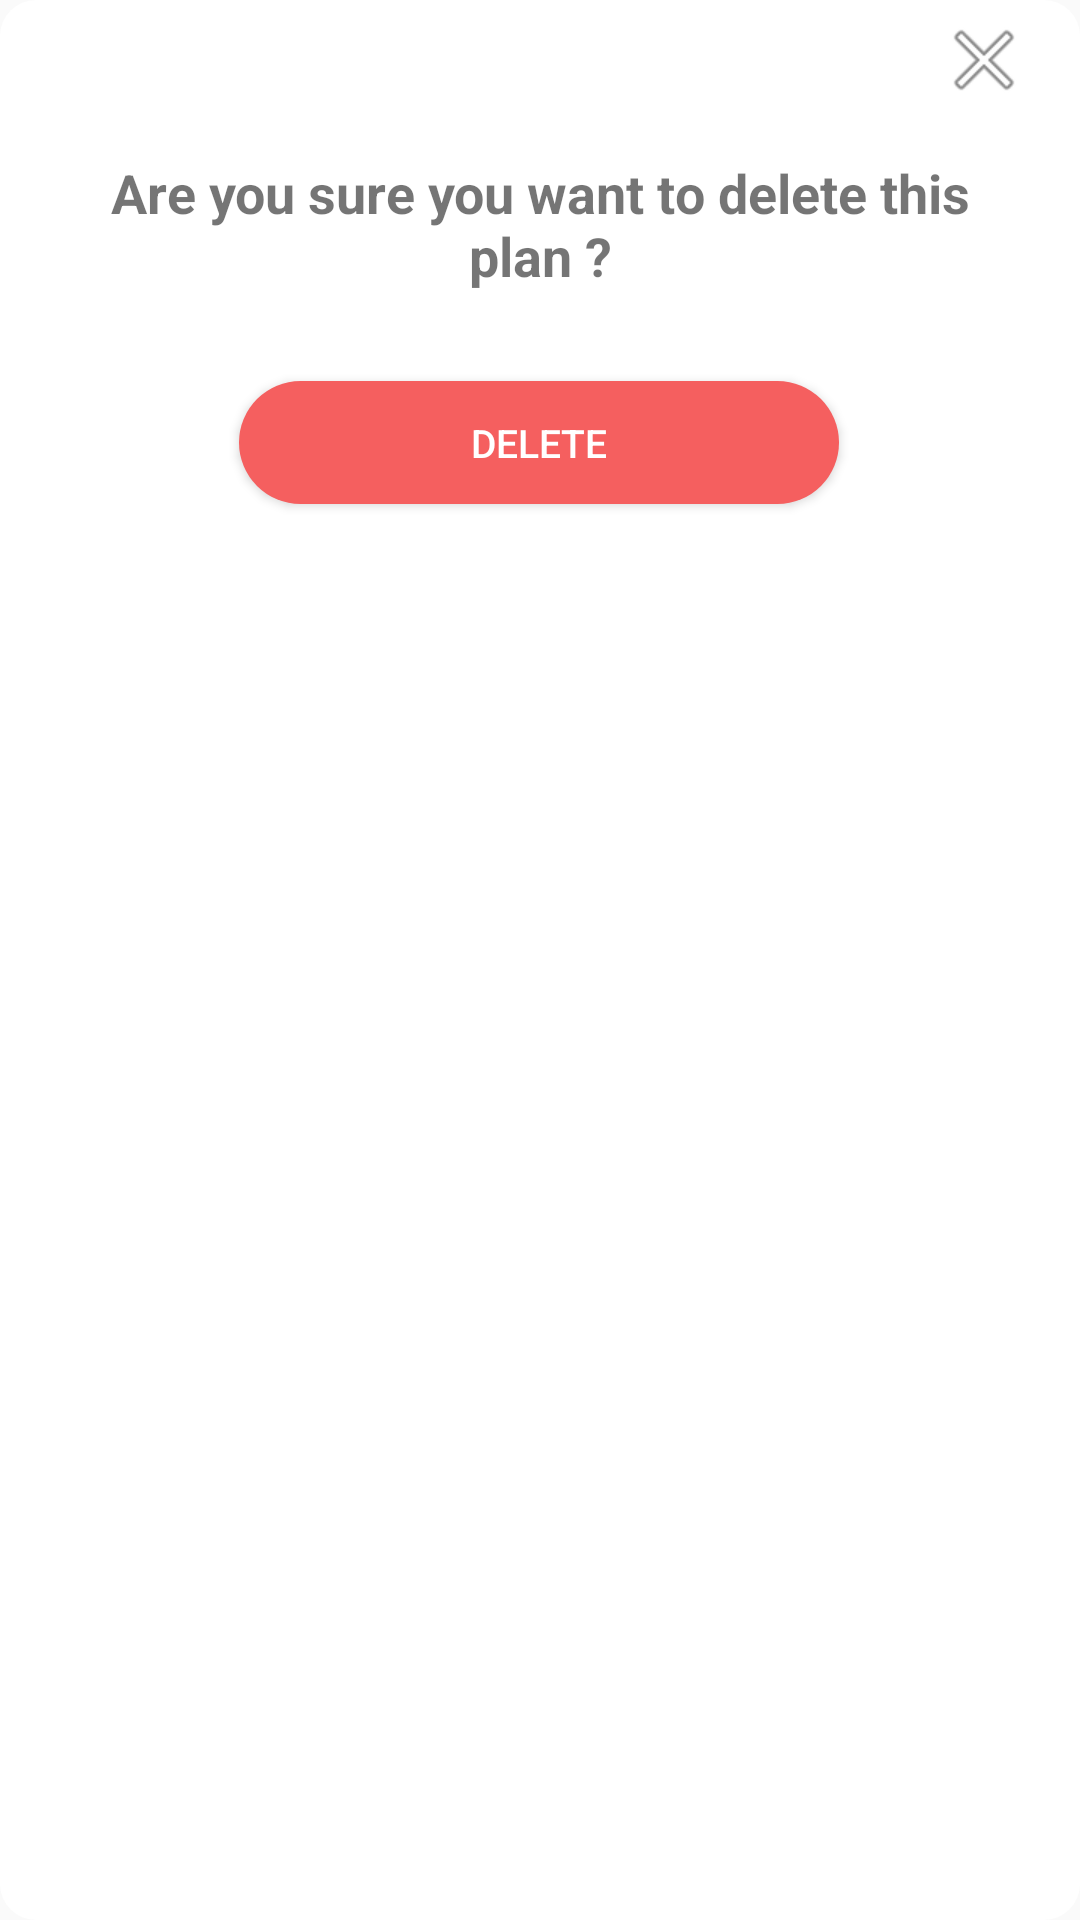

Icon click points for this 1080 x 1920 phone screenshot, format (x=x, y=y):
close clear cancel: (x=984, y=60)
